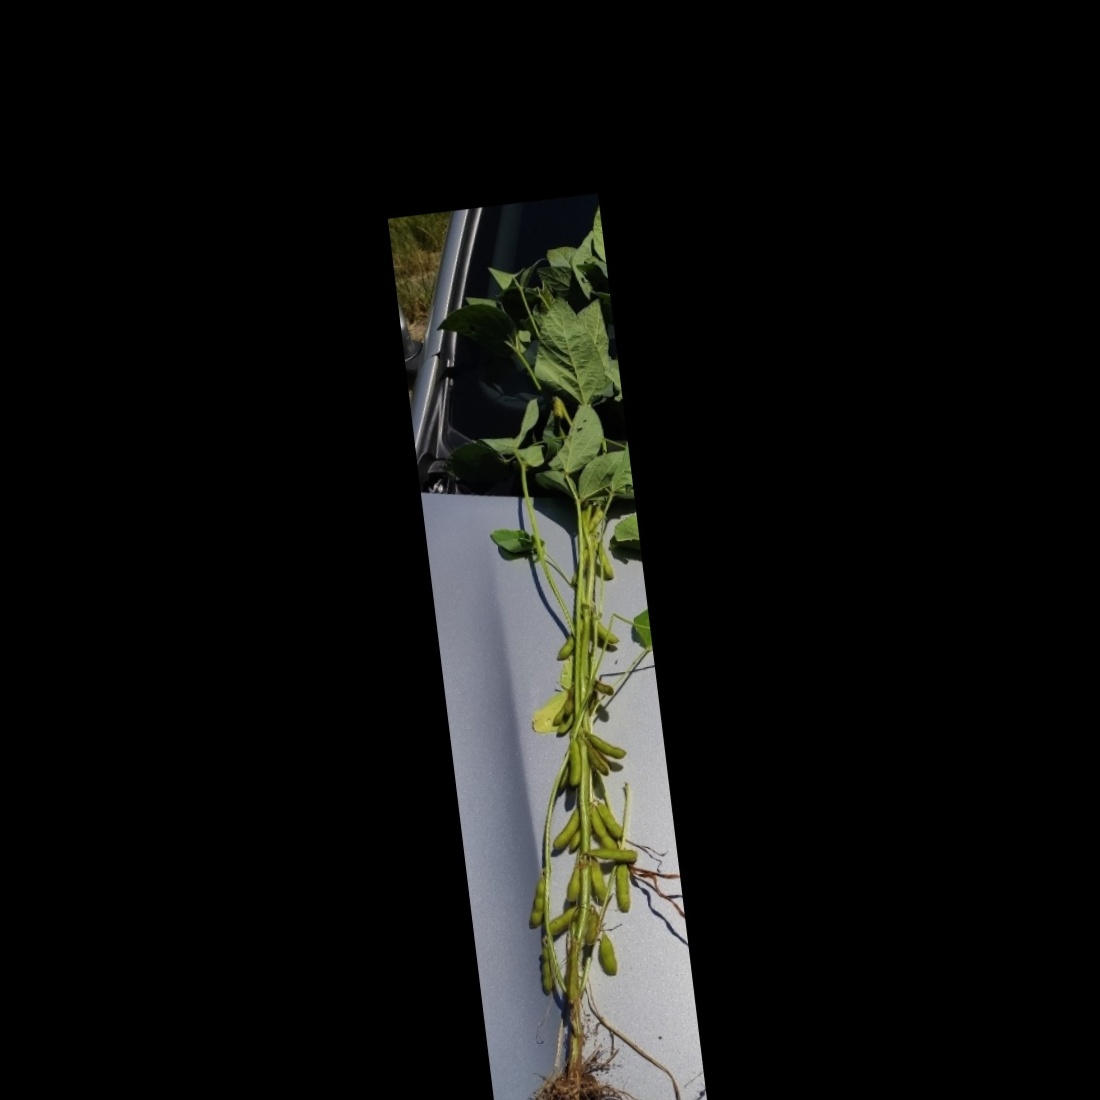pod: (546, 803, 585, 856), (523, 869, 551, 936), (589, 793, 624, 842), (608, 856, 635, 919), (580, 843, 645, 867), (561, 731, 584, 793), (535, 940, 556, 1002), (596, 926, 620, 982), (588, 729, 629, 761), (558, 858, 584, 905)
soy: (394, 217, 716, 1100)
